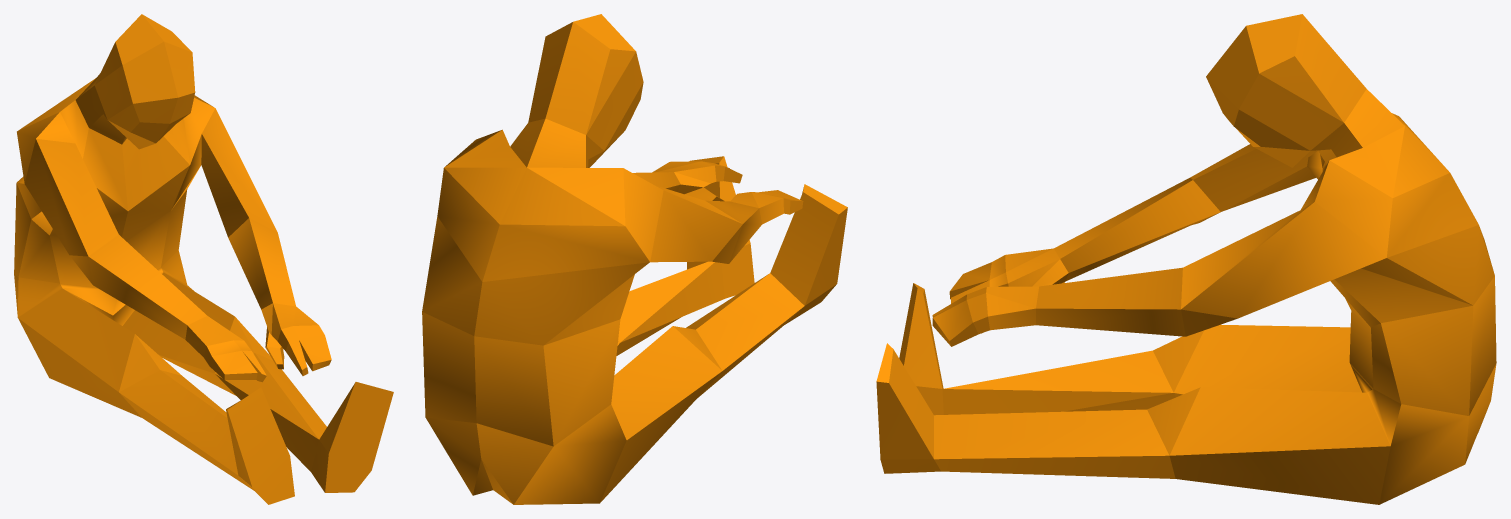
The model's file is Human06.fbx.
3 renders of one model, left to right at view 1: azimuth 30°, elevation 25°; view 2: azimuth 150°, elevation 25°; view 3: azimuth 270°, elevation 25°, orthographic. The views are drawn at different scales.
Parts seen in each view (by area): view 1: Human06; view 2: Human06; view 3: Human06.
Boxes of the visible parts, left/top/right/bottom form: Human06: left=14, top=14, right=393, bottom=504; Human06: left=422, top=14, right=847, bottom=504; Human06: left=876, top=14, right=1496, bottom=504.
Size of the model in its own units: 44.52 by 87.27 by 107.
